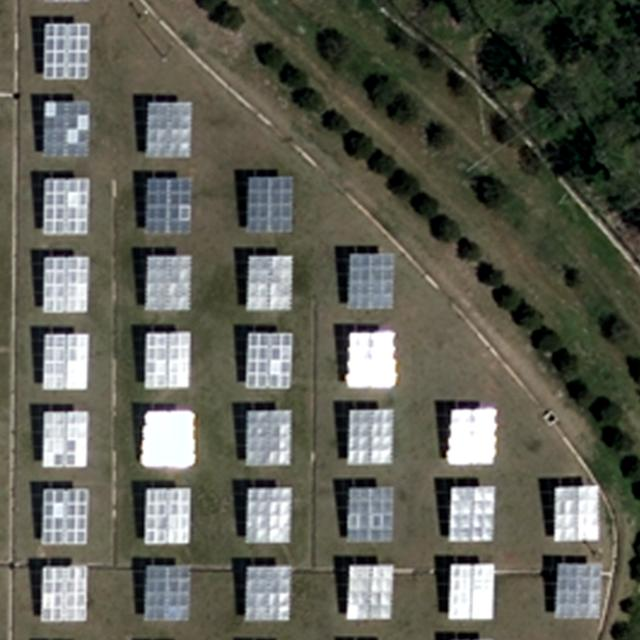solarpanel: (39, 18, 94, 82), (39, 98, 94, 161), (38, 331, 91, 396), (445, 407, 500, 466), (345, 330, 399, 389), (39, 408, 91, 469), (145, 97, 194, 161), (552, 560, 606, 618), (445, 562, 497, 622), (143, 410, 195, 470), (346, 250, 395, 313), (38, 564, 90, 623), (40, 487, 90, 548), (346, 407, 396, 466), (245, 252, 294, 312), (43, 254, 91, 315), (243, 409, 293, 467), (553, 484, 599, 547), (245, 175, 293, 235), (142, 175, 192, 232), (143, 488, 191, 547), (244, 485, 292, 544), (242, 331, 289, 391), (144, 256, 194, 312), (144, 563, 192, 621), (447, 483, 494, 542), (346, 488, 394, 545), (244, 563, 292, 620), (345, 563, 392, 620), (42, 178, 87, 236), (145, 330, 187, 390)
